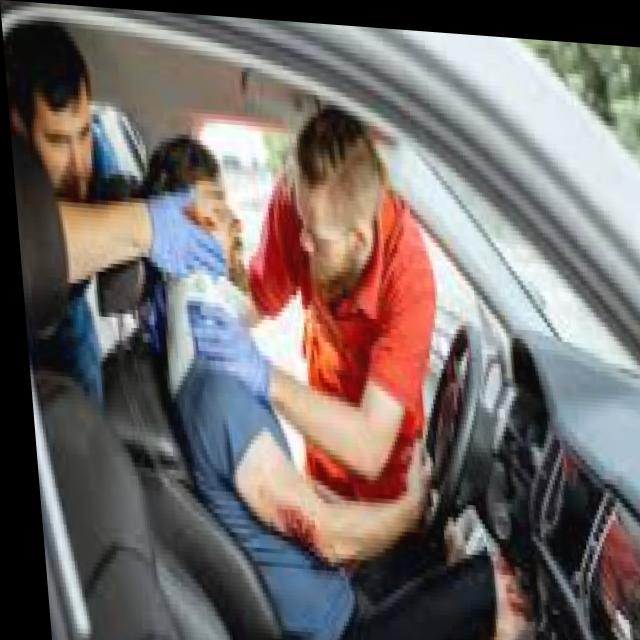injury: (138, 146, 253, 309), (294, 123, 376, 293), (25, 34, 100, 187), (274, 501, 332, 565), (195, 203, 219, 234)
